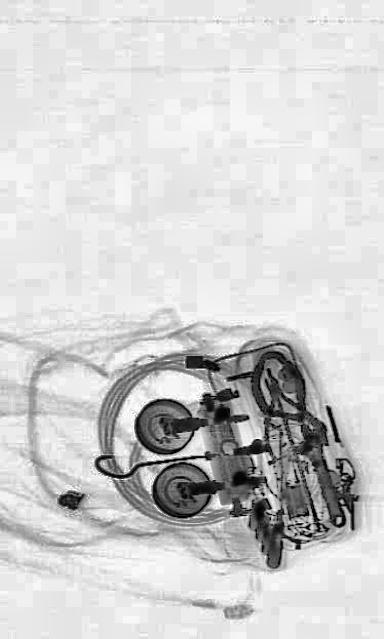Pliers: (243, 348, 326, 476)
Wrench: (286, 409, 356, 541)
